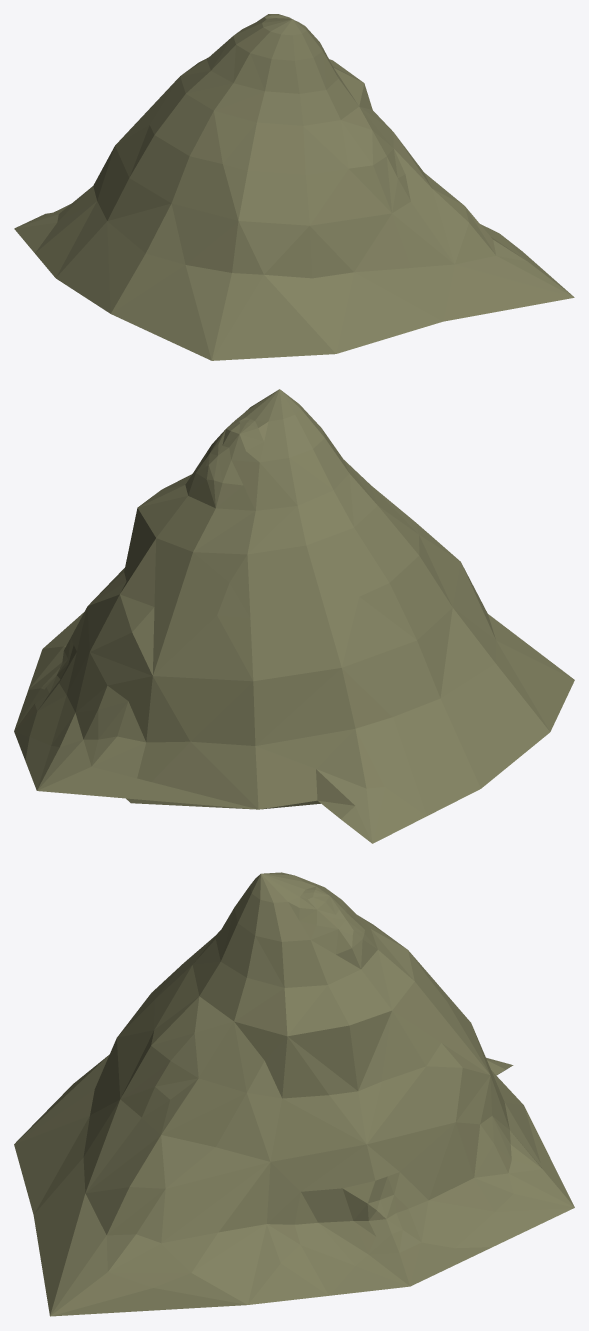
Rendered from rock09.fbx.
3 views of the same model, one above another, from view 1: azimuth 30°, elevation 25°; view 2: azimuth 150°, elevation 25°; view 3: azimuth 270°, elevation 25° (orthographic). The views are drawn at different scales.
Parts seen in each view (by area): view 1: rock09; view 2: rock09; view 3: rock09.
Boxes of the visible parts, box(x1,y1,x2,y2) form: rock09: box(14, 14, 574, 360); rock09: box(14, 389, 574, 843); rock09: box(14, 872, 574, 1316).
Size of the model in its own units: 0.2755 by 0.1758 by 0.2754.
